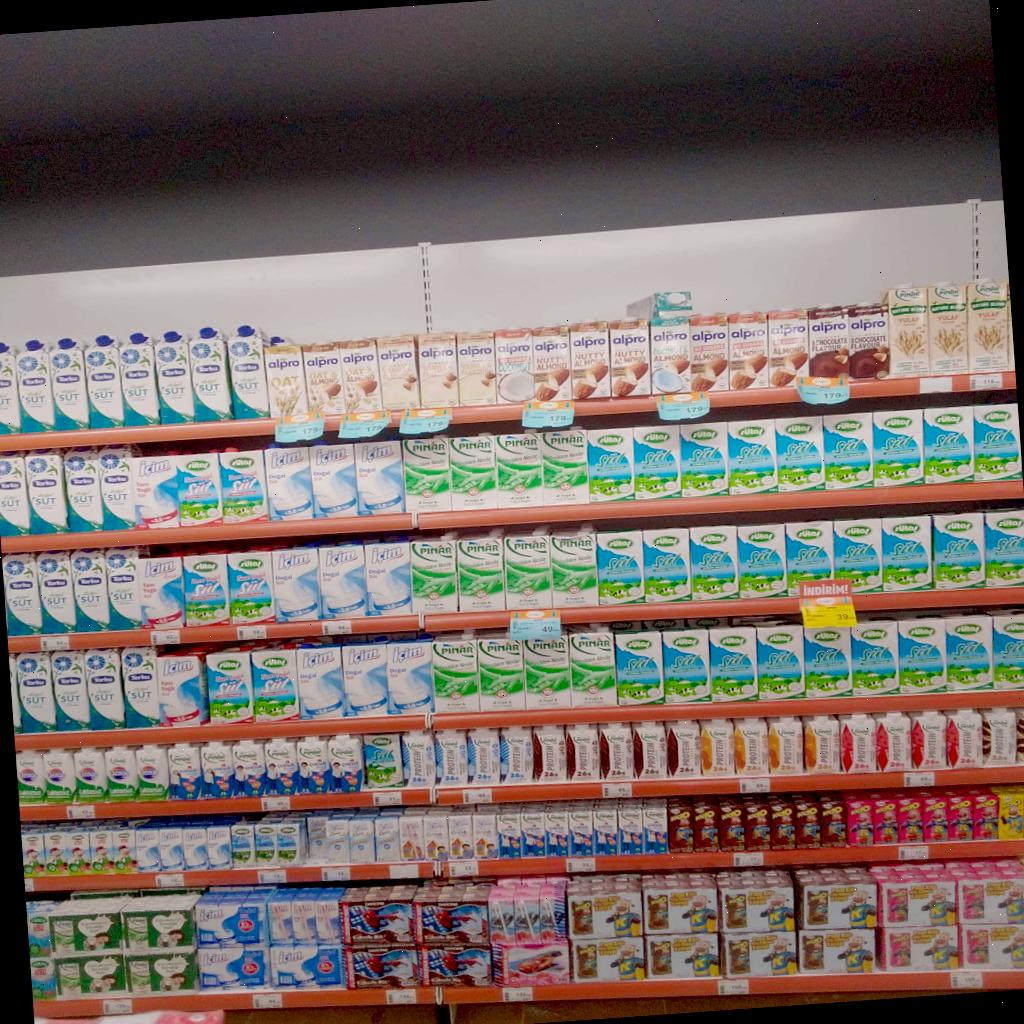price_tag: (799, 580, 856, 628), (657, 391, 710, 421), (510, 609, 561, 640), (275, 411, 324, 443), (796, 376, 850, 405), (522, 400, 574, 428), (400, 407, 452, 434), (339, 411, 390, 437), (919, 376, 952, 394), (951, 970, 983, 988), (970, 373, 1002, 390), (447, 861, 479, 878), (718, 979, 749, 995), (102, 998, 133, 1014), (462, 788, 493, 804), (40, 635, 70, 651), (903, 772, 935, 787), (740, 778, 770, 794), (899, 845, 929, 861), (566, 857, 596, 873), (253, 993, 283, 1009), (156, 872, 184, 889), (236, 625, 267, 640), (502, 988, 533, 1003), (387, 989, 416, 1005), (390, 864, 420, 879), (372, 791, 402, 806), (322, 620, 352, 635), (734, 852, 764, 867), (262, 796, 290, 812), (151, 629, 179, 645), (257, 869, 286, 884), (322, 866, 351, 881), (603, 782, 632, 797), (67, 806, 94, 820), (24, 878, 34, 893)
product: (793, 865, 877, 934), (414, 883, 493, 947), (718, 870, 795, 935), (340, 884, 418, 948), (488, 880, 565, 942), (567, 876, 642, 939), (195, 889, 276, 947), (448, 426, 500, 516), (50, 897, 130, 955), (122, 894, 200, 952), (643, 874, 717, 935), (266, 887, 342, 945), (678, 422, 734, 500), (879, 872, 958, 927), (776, 413, 830, 493), (824, 408, 876, 490), (219, 445, 271, 527), (188, 327, 233, 421), (585, 425, 637, 506), (549, 524, 598, 608), (264, 442, 315, 522), (132, 450, 183, 530), (885, 285, 929, 377), (503, 530, 553, 610), (933, 513, 985, 589), (228, 325, 270, 419), (498, 428, 546, 510), (923, 407, 974, 484), (410, 534, 459, 614), (310, 440, 360, 518), (881, 516, 932, 592), (157, 653, 209, 727), (872, 411, 923, 486), (48, 339, 90, 430), (926, 283, 968, 374), (568, 629, 617, 707), (967, 280, 1008, 373), (358, 440, 408, 516), (632, 421, 680, 500), (960, 866, 1024, 925), (973, 404, 1022, 481), (272, 546, 321, 623), (881, 925, 961, 972), (543, 426, 591, 504), (25, 450, 69, 535), (730, 415, 776, 496), (177, 448, 223, 529), (690, 525, 739, 601), (833, 517, 882, 593), (120, 333, 160, 426), (737, 524, 787, 598), (897, 620, 947, 694), (457, 535, 505, 612), (364, 542, 413, 617), (944, 616, 993, 691), (850, 621, 898, 697), (432, 637, 480, 713), (756, 626, 805, 700), (708, 628, 757, 702), (615, 631, 664, 705), (296, 646, 345, 720), (477, 637, 525, 712), (642, 530, 691, 603), (319, 543, 366, 619), (82, 649, 126, 730), (798, 928, 875, 974), (156, 331, 194, 424), (785, 520, 832, 595), (663, 629, 710, 704), (722, 932, 797, 979), (138, 556, 186, 629), (523, 636, 571, 709), (206, 652, 254, 725), (493, 940, 569, 986), (2, 553, 44, 636), (803, 627, 852, 698), (100, 442, 138, 533), (597, 532, 645, 604), (251, 650, 299, 722), (228, 551, 275, 624), (55, 952, 128, 999), (16, 340, 53, 432), (646, 933, 720, 979), (846, 303, 890, 380), (70, 549, 110, 633), (183, 554, 229, 627), (85, 341, 124, 427), (124, 950, 198, 995), (727, 311, 769, 390), (342, 644, 388, 716), (570, 938, 645, 982), (302, 342, 347, 415), (120, 646, 160, 728), (766, 308, 808, 386), (377, 334, 420, 410), (388, 642, 433, 714), (17, 652, 57, 733), (197, 945, 269, 990), (271, 944, 343, 989), (570, 321, 611, 400), (64, 449, 103, 532), (408, 434, 450, 511), (264, 344, 308, 417), (611, 318, 651, 397), (103, 547, 141, 630), (417, 332, 459, 407), (345, 946, 420, 988), (650, 315, 690, 393), (689, 313, 729, 391), (51, 651, 90, 731), (456, 331, 497, 406), (807, 305, 849, 378), (420, 944, 491, 987), (341, 339, 382, 413), (961, 923, 1024, 971), (985, 510, 1024, 587), (38, 555, 76, 631), (532, 326, 571, 400), (494, 328, 533, 401), (992, 614, 1024, 690), (0, 456, 30, 537), (364, 733, 404, 789), (946, 709, 983, 768), (875, 711, 911, 771), (666, 721, 703, 779), (803, 715, 840, 773), (631, 721, 667, 780), (769, 716, 805, 775), (841, 713, 876, 773), (700, 719, 736, 777), (911, 711, 946, 770), (981, 707, 1016, 766), (0, 342, 22, 435), (328, 735, 363, 793), (599, 723, 634, 781), (734, 718, 769, 776), (297, 738, 333, 793), (134, 746, 169, 802), (201, 742, 235, 799), (402, 731, 436, 788), (435, 729, 469, 786), (533, 725, 567, 782), (566, 725, 600, 781), (26, 901, 60, 957), (233, 740, 266, 797), (104, 747, 138, 802), (265, 740, 299, 795), (468, 728, 500, 786), (168, 743, 201, 799), (500, 727, 533, 783), (73, 748, 106, 802), (43, 749, 75, 803), (16, 751, 44, 804), (921, 791, 949, 844), (617, 802, 644, 856), (182, 822, 210, 874), (870, 794, 899, 844), (995, 790, 1024, 840), (719, 798, 746, 851), (972, 787, 999, 840), (642, 799, 668, 854), (667, 800, 694, 852), (693, 798, 719, 852), (897, 794, 925, 844), (39, 829, 69, 875), (795, 796, 821, 848), (278, 816, 304, 867), (448, 811, 475, 860), (567, 808, 594, 857), (322, 817, 350, 864), (593, 805, 619, 855), (232, 818, 256, 872), (348, 817, 376, 863), (86, 830, 115, 874), (745, 800, 770, 851), (423, 812, 449, 861), (520, 809, 546, 858), (399, 815, 426, 862), (846, 799, 873, 846), (133, 828, 161, 873), (255, 818, 279, 870), (472, 811, 498, 859), (770, 802, 796, 850), (158, 825, 184, 872), (375, 816, 401, 863), (496, 812, 522, 859), (67, 829, 93, 875), (821, 800, 847, 846), (21, 830, 46, 877), (210, 824, 233, 874), (947, 794, 972, 839), (30, 958, 56, 1001), (304, 814, 328, 860), (545, 809, 568, 857), (112, 828, 135, 873), (1016, 709, 1024, 763)
